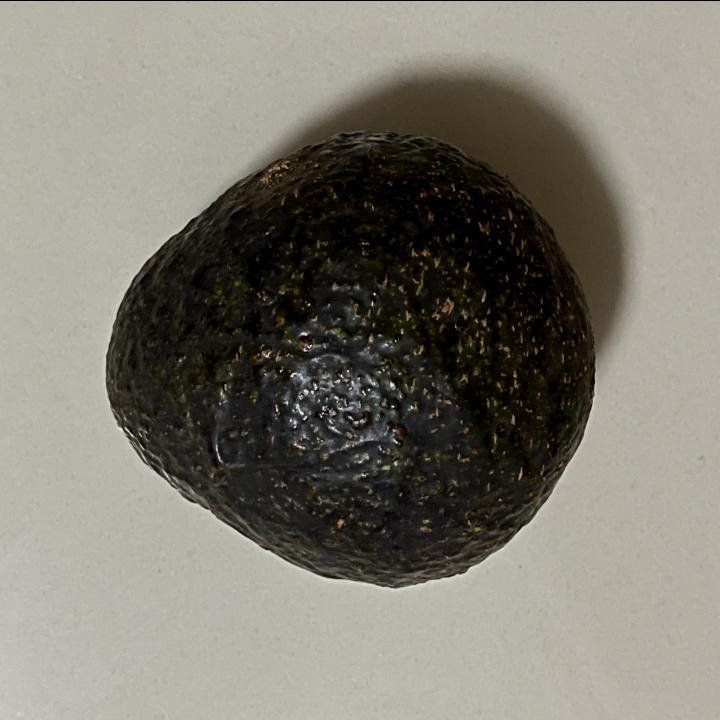Level2: (95, 122, 599, 594)
